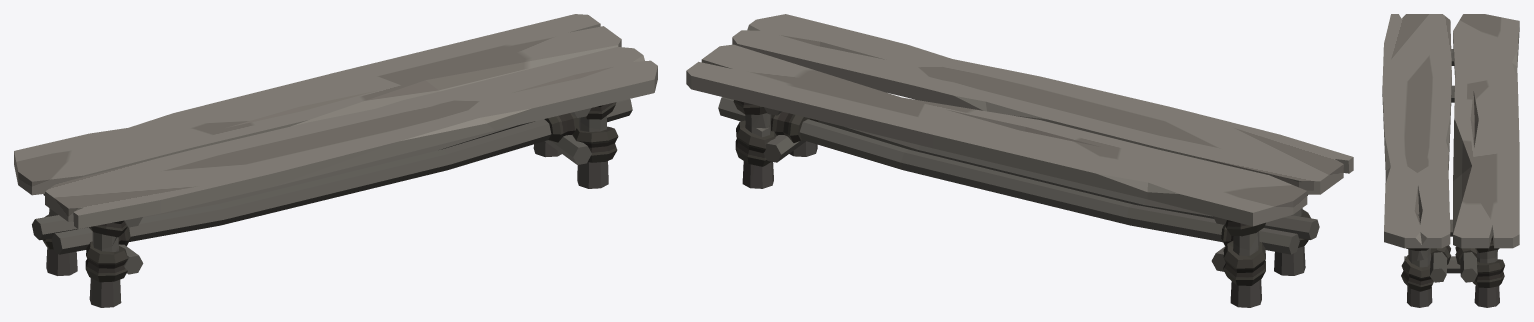
The model's file is ancient_SM_Prop_Seat_Bench_05.gltf.
3 views of the same model, side by side, from view 1: azimuth 30°, elevation 25°; view 2: azimuth 150°, elevation 25°; view 3: azimuth 270°, elevation 25° (orthographic). The views are drawn at different scales.
Parts seen in each view (by area): view 1: SM_Prop_Seat_Bench_05; view 2: SM_Prop_Seat_Bench_05; view 3: SM_Prop_Seat_Bench_05.
Part boxes in pixels (box(x1,y1,x2,y2)): SM_Prop_Seat_Bench_05: box(14, 14, 657, 307); SM_Prop_Seat_Bench_05: box(686, 14, 1353, 307); SM_Prop_Seat_Bench_05: box(1382, 14, 1519, 307).
Size of the model in its own units: 2.58 by 0.4612 by 0.6673.
Materials: 1 (1 with a texture image).
